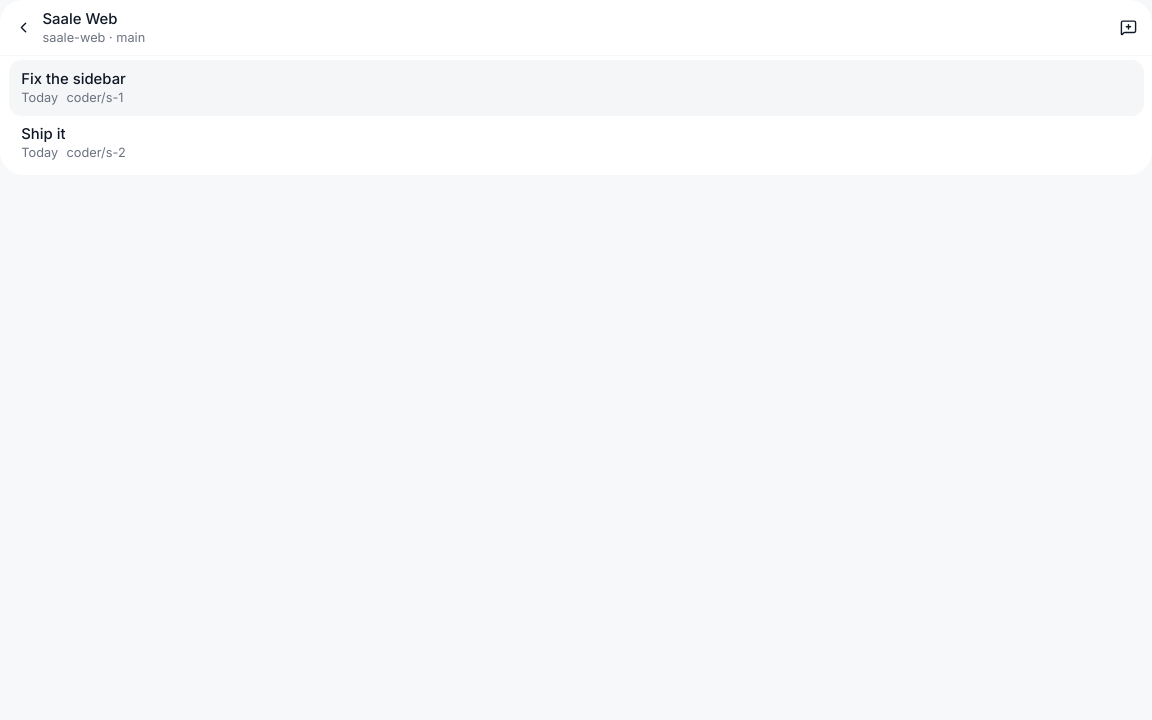
Test: SessionSidebar for a coder project › deletes several of a project's chats in one request
Expected: the text "Fix the sidebar" is shown, [21,69,126,90]
What coordinates should you click on to do the following:
click the link "Fix the sidebar Today coder/s-1"
I would click on:
 (74, 88)
Its box is [21,70,126,105].
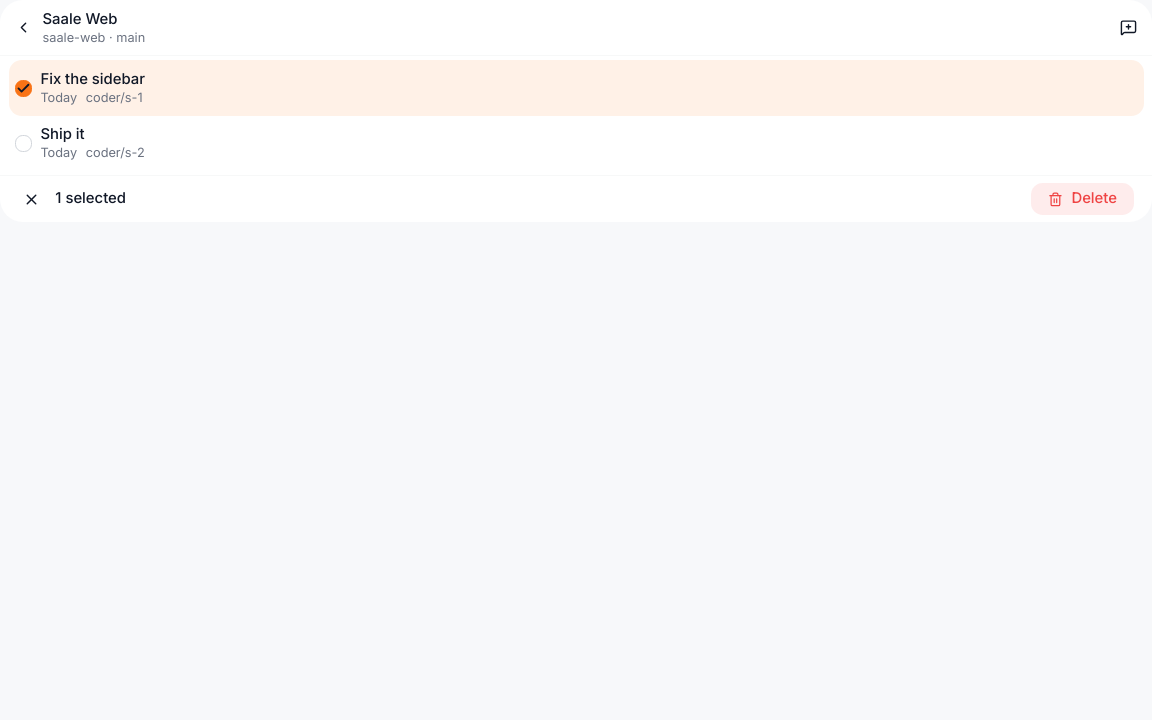
What coordinates should you click on to do the following:
click the link "Ship it Today coder/s-2"
I would click on:
 (80, 143)
Its box is [15,125,145,160].
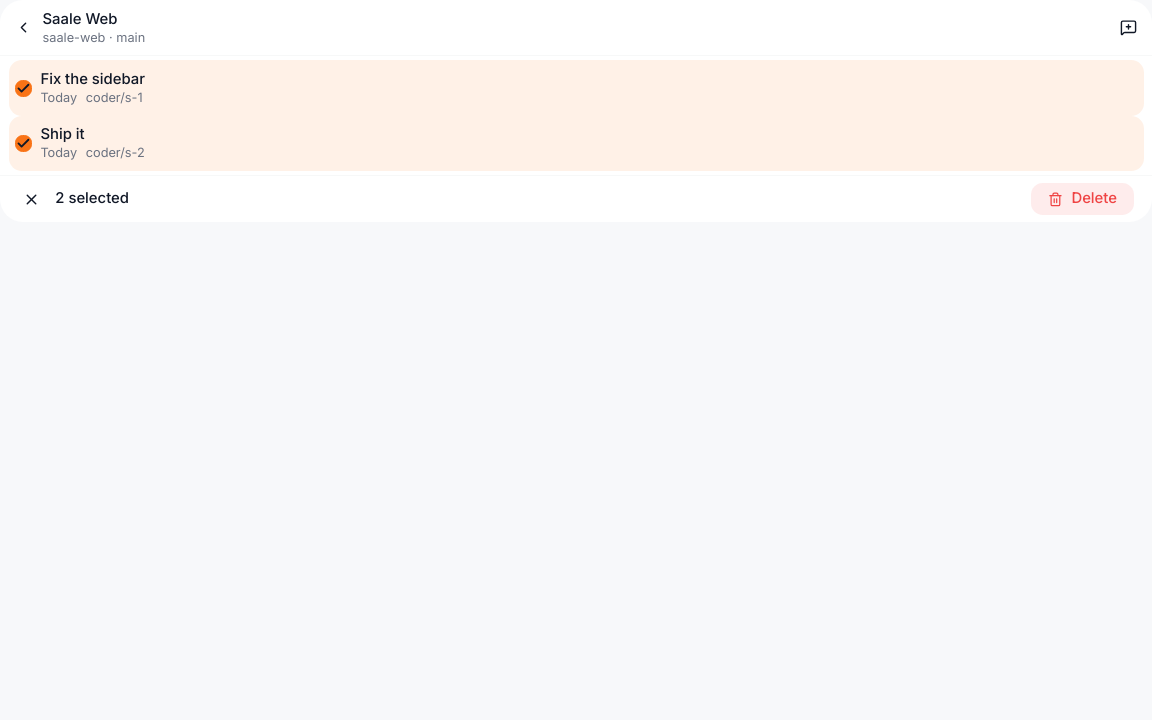
What coordinates should you click on to do the following:
click the button with aria-label "Delete 2 selected chats"
I would click on:
 (1082, 199)
Its box is [1030,182,1135,216].
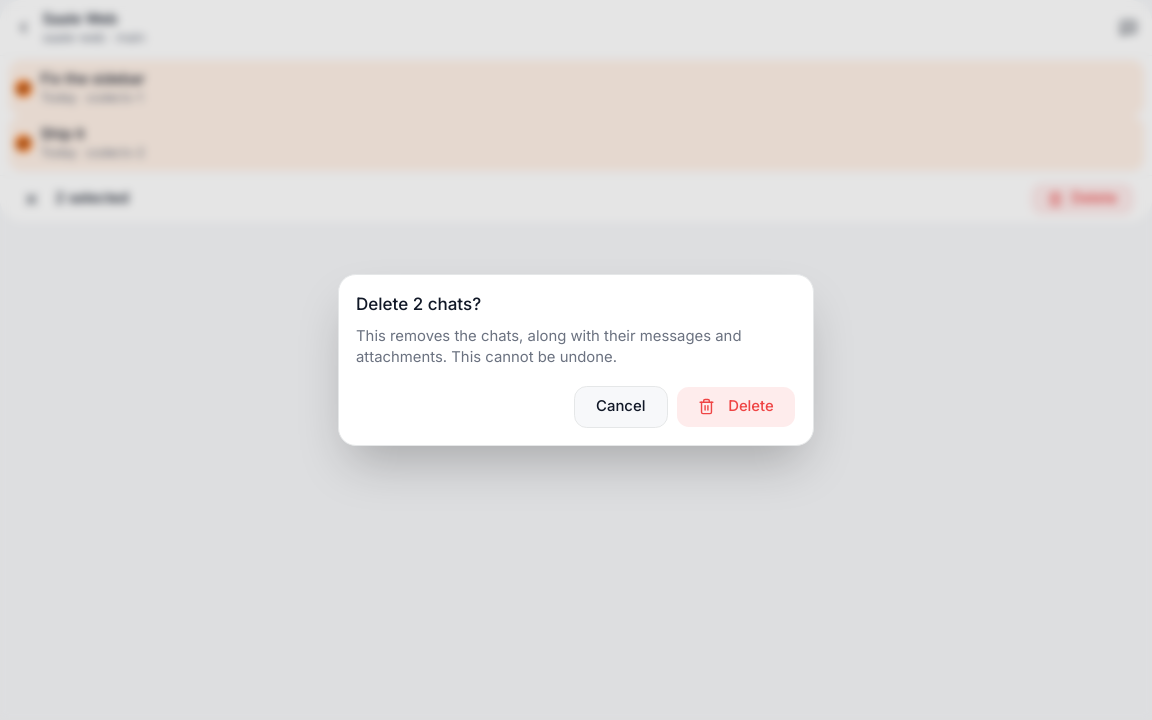
What coordinates should you click on to do the following:
click the button "Delete"
I would click on:
 (736, 407)
Its box is [676,386,796,428].
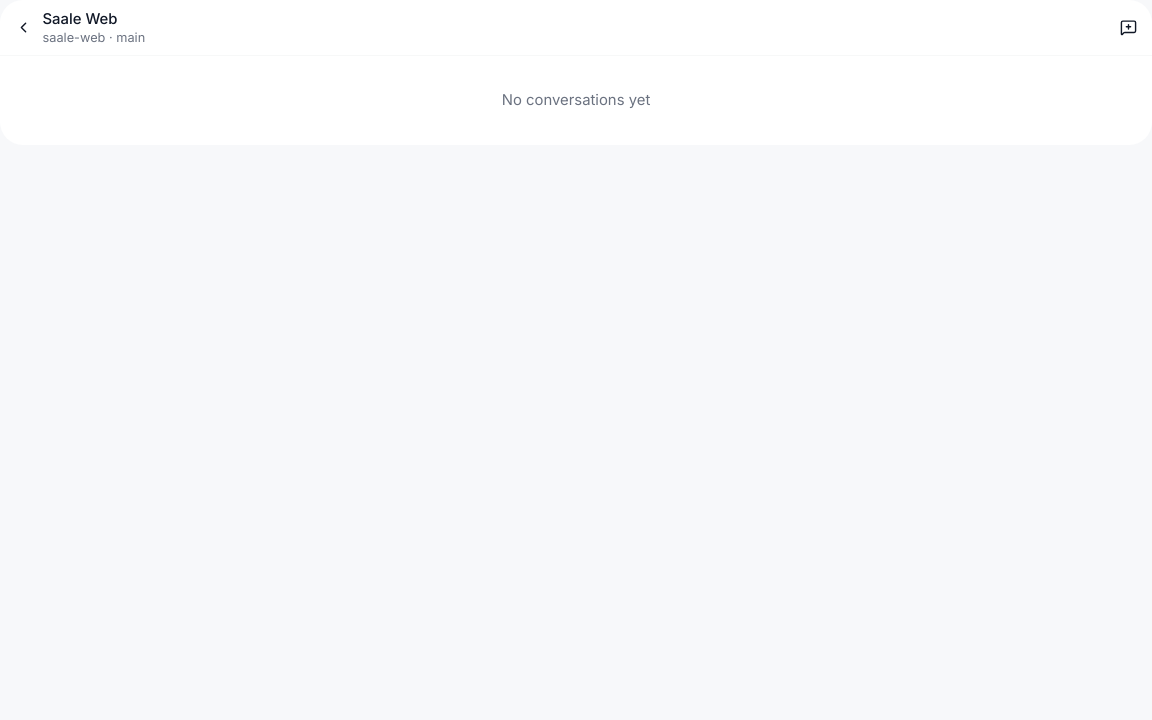
Now the link "Ship it" is gone
